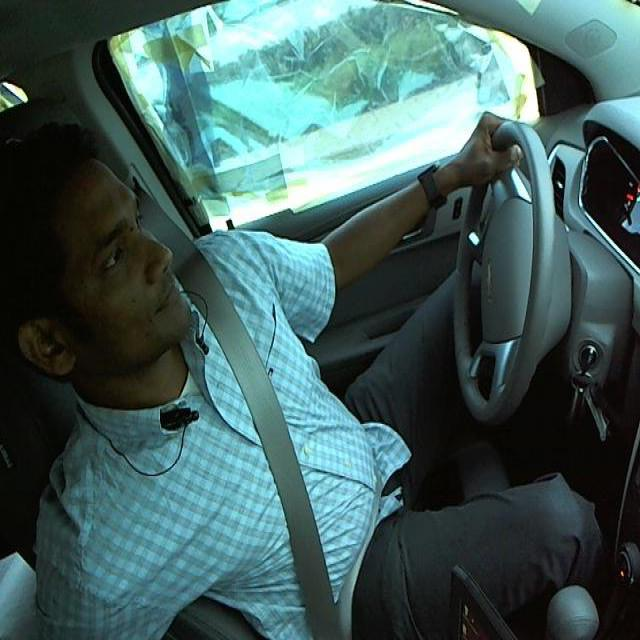seatbelt: (185, 293, 380, 632)
